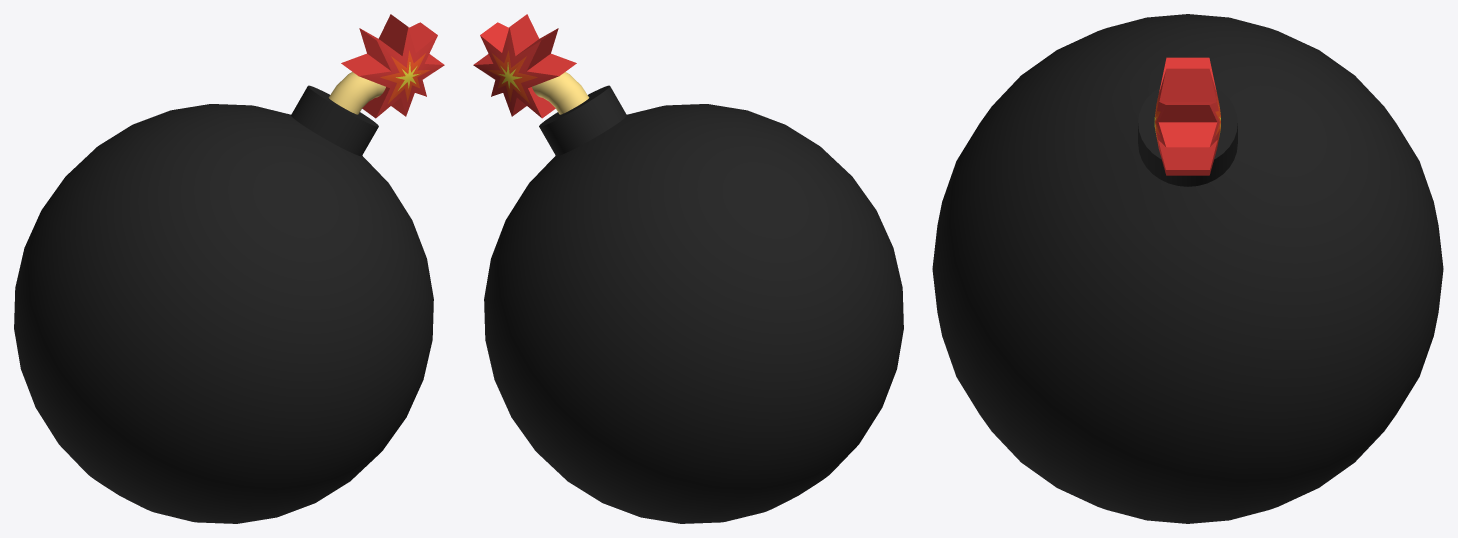
File: bomb.gltf
The picture shows the model from 3 angles, left to right: view 1: azimuth 30°, elevation 25°; view 2: azimuth 150°, elevation 25°; view 3: azimuth 270°, elevation 25°; orthographic projection. The views are drawn at different scales.
Parts seen in each view (by area): view 1: Sphere; view 2: Sphere; view 3: Sphere.
Part boxes in pixels (bbox=[...]): Sphere: bbox=[14, 14, 444, 523]; Sphere: bbox=[473, 14, 903, 523]; Sphere: bbox=[932, 14, 1443, 523].
Size of the model in its own units: 1.73 by 1.85 by 1.6.
Materials: 1 (1 with a texture image).
